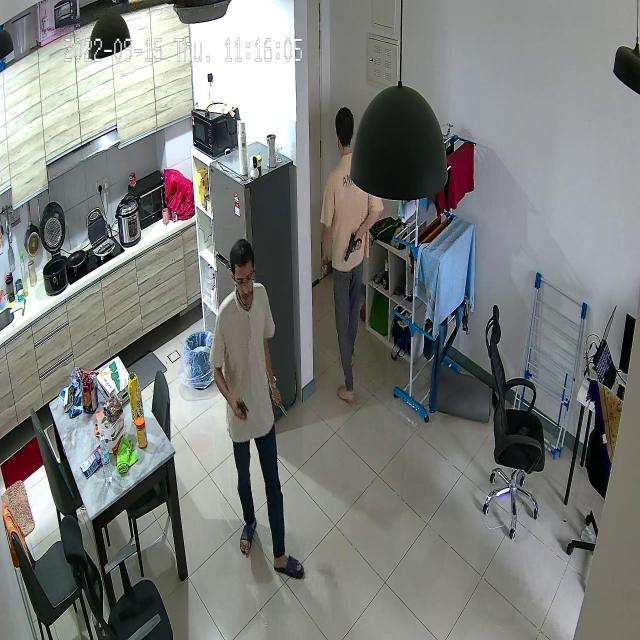Gun: (340, 219, 371, 273)
